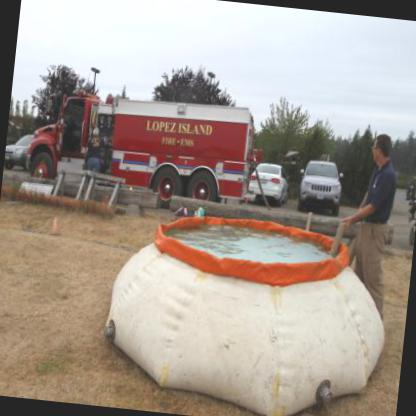truck: (22, 82, 270, 207)
